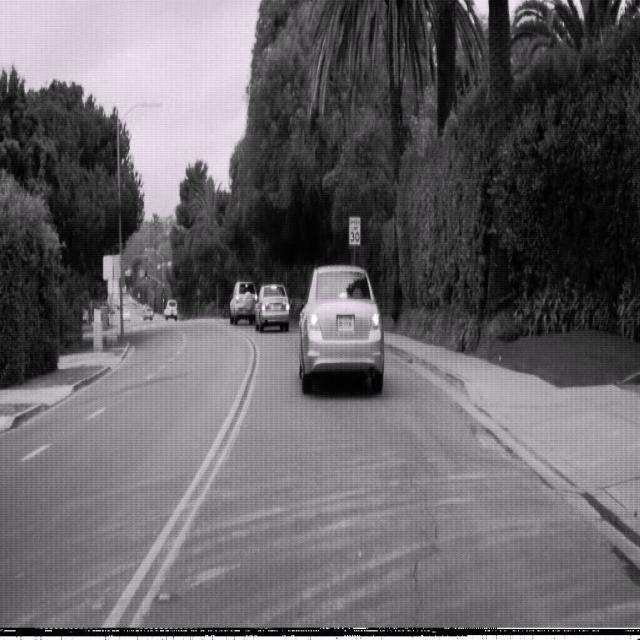speedLimit30: (348, 215, 361, 245)
